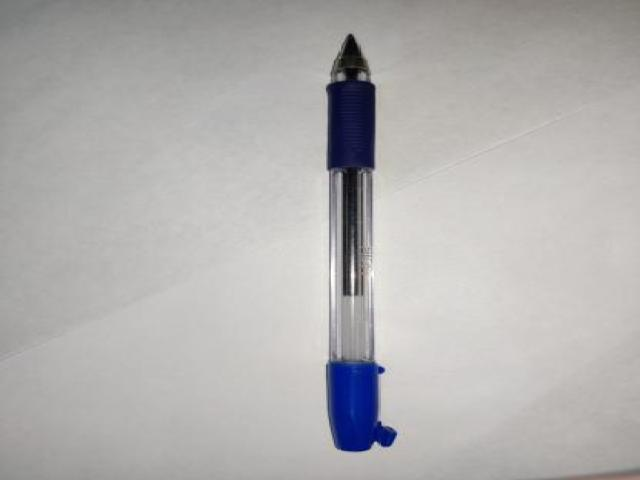PEN: (314, 28, 409, 462)
